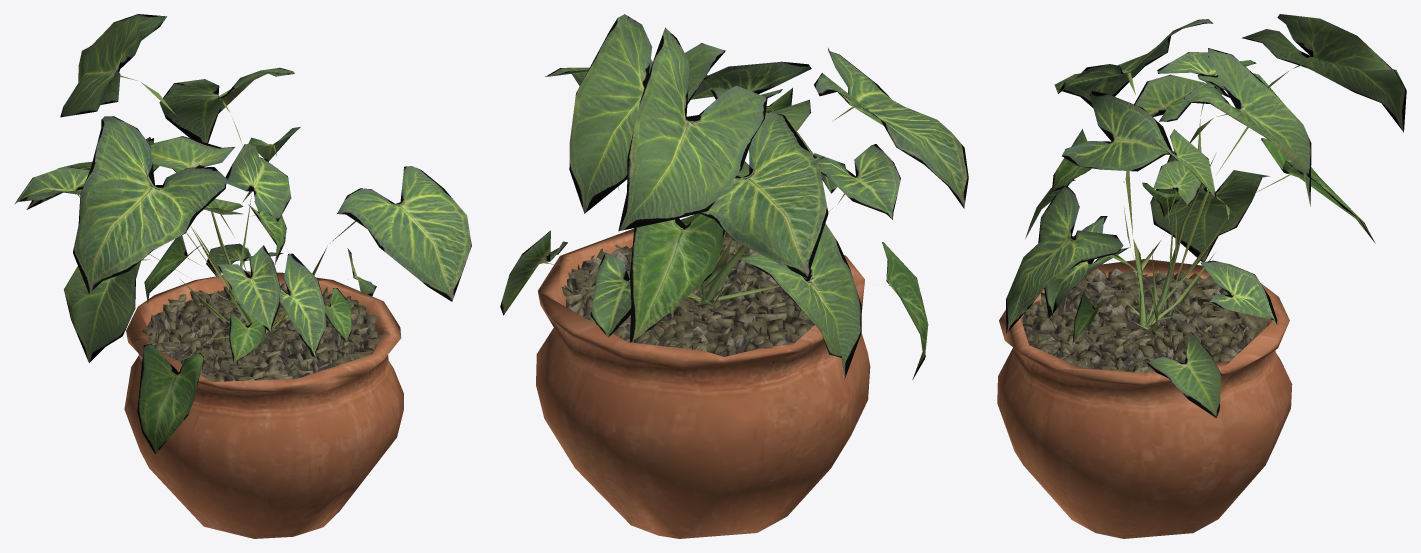
File: potted_plant_02.glb
3 views of the same model, side by side, from view 1: azimuth 30°, elevation 25°; view 2: azimuth 150°, elevation 25°; view 3: azimuth 270°, elevation 25° (orthographic). The views are drawn at different scales.
Visible parts, largest first — view 1: potted_plant_02_leaves, potted_plant_02_pot; view 2: potted_plant_02_leaves, potted_plant_02_pot; view 3: potted_plant_02_pot, potted_plant_02_leaves.
Boxes of the visible parts, x1,y1,x2,y2 form: potted_plant_02_leaves: [15, 14, 471, 453]; potted_plant_02_pot: [124, 271, 403, 538]; potted_plant_02_leaves: [500, 14, 968, 379]; potted_plant_02_pot: [536, 228, 870, 538]; potted_plant_02_pot: [997, 259, 1292, 538]; potted_plant_02_leaves: [1006, 14, 1406, 417].
Size of the model in its own units: 0.7012 by 0.8397 by 0.6537.
2 materials, 2 textured.
